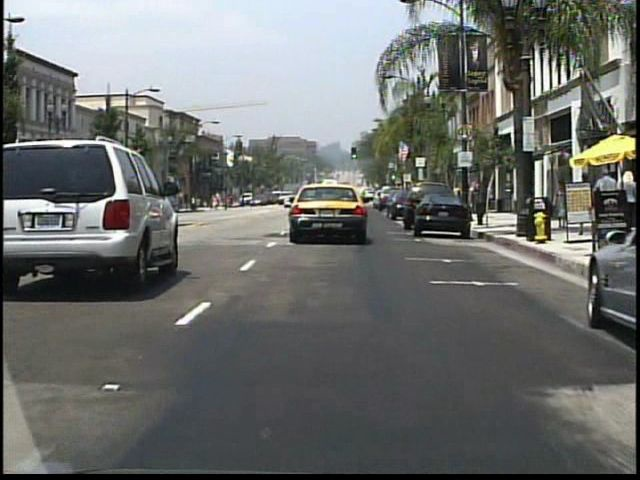person: (606, 168, 636, 227), (592, 166, 618, 220), (577, 170, 597, 232), (549, 181, 567, 231), (239, 194, 247, 209)
